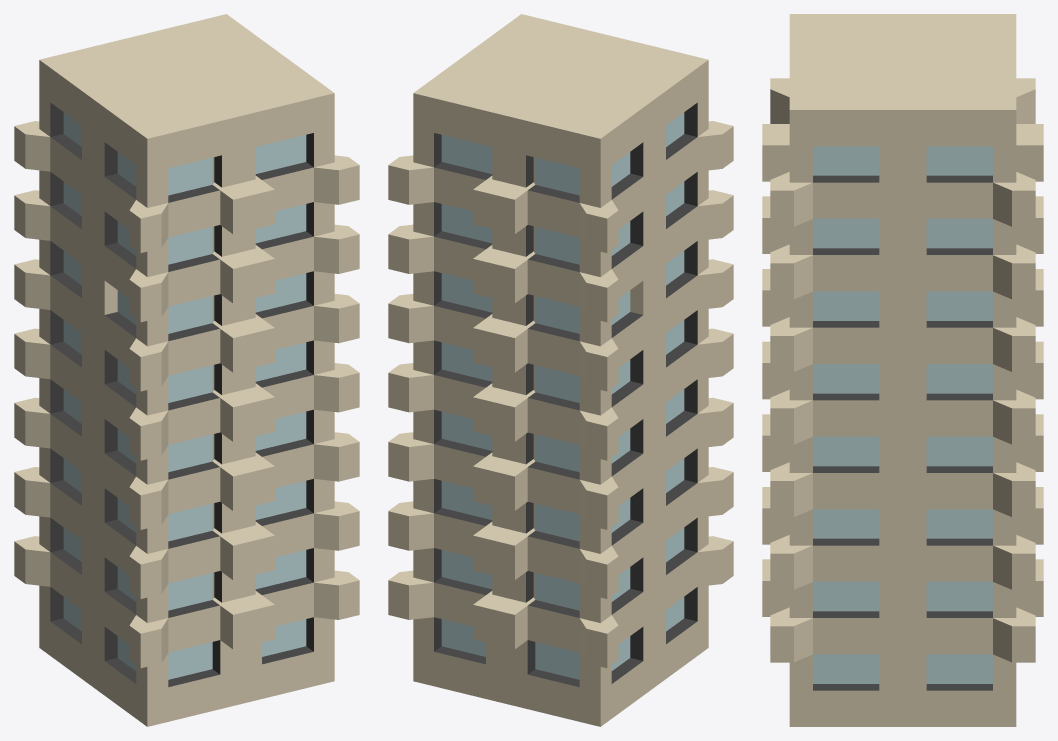
File: edifico4blend.fbx
The picture shows the model from 3 angles, left to right: view 1: azimuth 30°, elevation 25°; view 2: azimuth 150°, elevation 25°; view 3: azimuth 270°, elevation 25°; orthographic projection. The views are drawn at different scales.
Parts seen in each view (by area): view 1: edificio; view 2: edificio; view 3: edificio.
Part boxes in pixels (bbox=[...]): edificio: bbox=[14, 14, 359, 726]; edificio: bbox=[388, 14, 733, 726]; edificio: bbox=[762, 14, 1043, 726].
Size of the model in its own units: 117 by 300 by 124.
